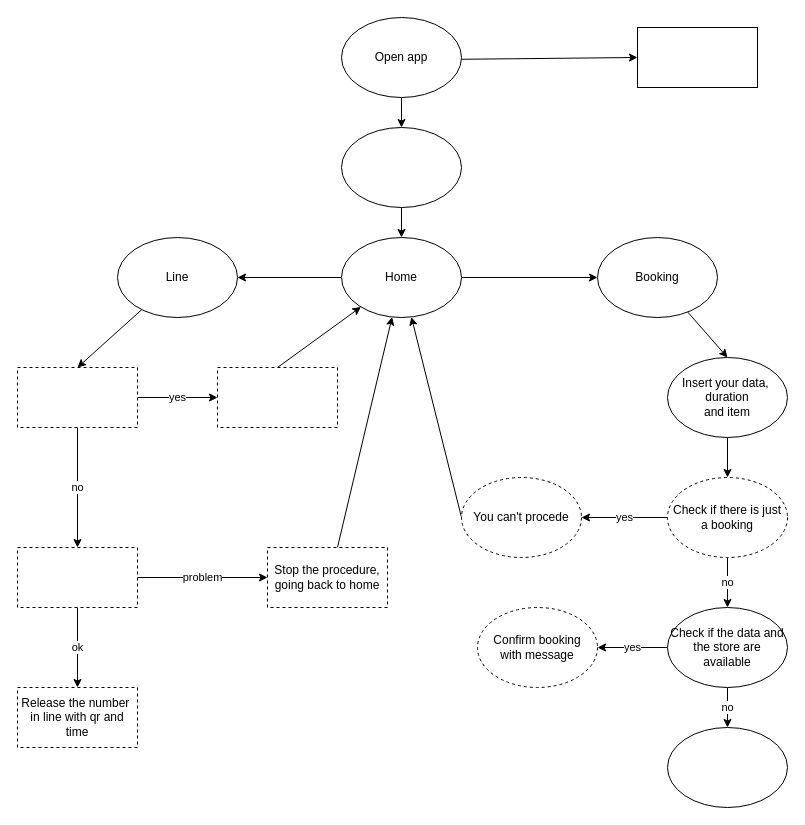
This 805x825 diagram has some shape labels left out. The shapes that lost their labels are listed below. From the top down, each one's centre as x and y in pixels, then its label:
At [697,57]: "Just open there is a section with notification".
At [401,167]: "Registration with otp(1 time) after Insert your number and pass".
At [77,397]: "Check if the number is yet in line".
At [277,397]: "send an error message".
At [77,577]: "Reserving the right number".
At [727,767]: "Suggestion".
